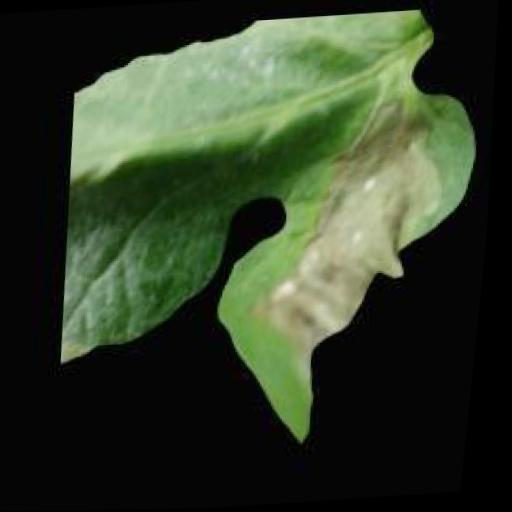Late Blight: (41, 7, 502, 466)
